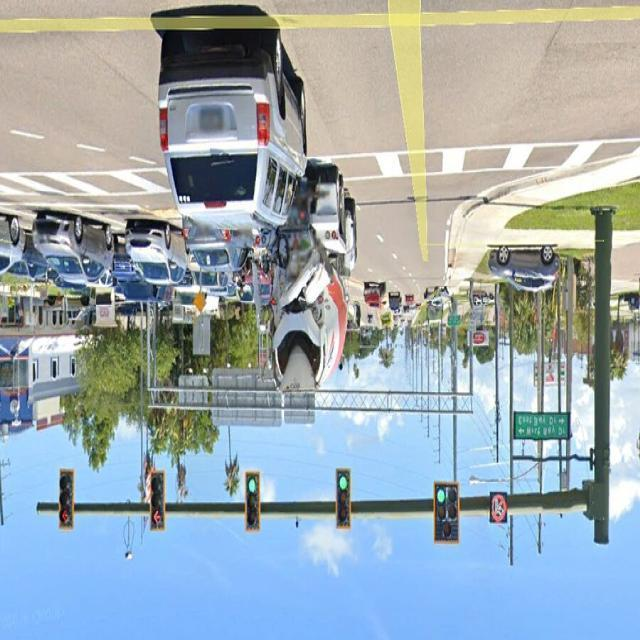green_light: (429, 480, 462, 542), (242, 466, 264, 532), (334, 467, 352, 530)
red_light: (52, 464, 82, 534), (146, 473, 171, 537)
